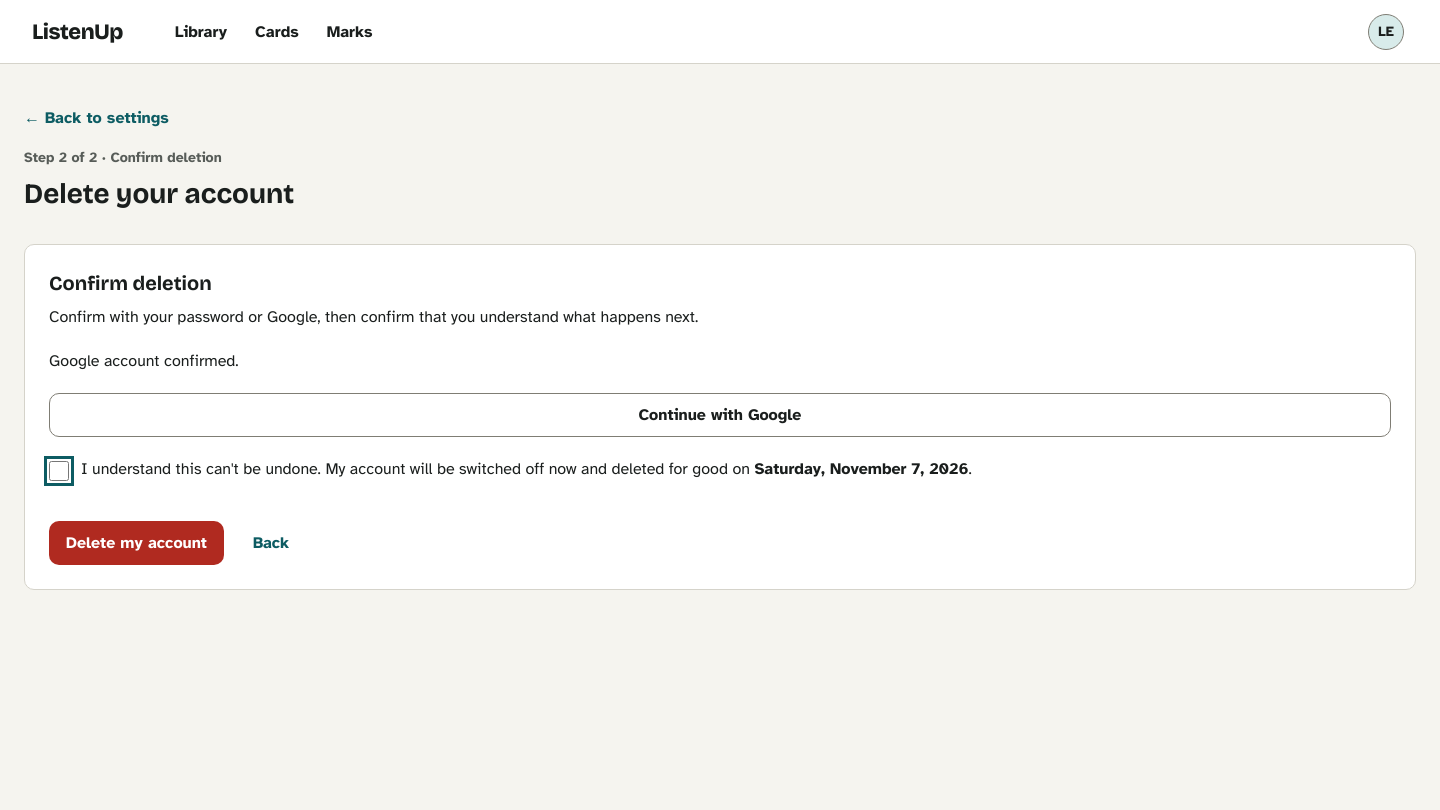
Scenario: an expired Google deletion proof offers Google confirmation again
Check: the text "Google account confirmed." is shown, box [49, 351, 239, 371]
Click the checkbox.
click(59, 471)  # box [49, 461, 69, 481]
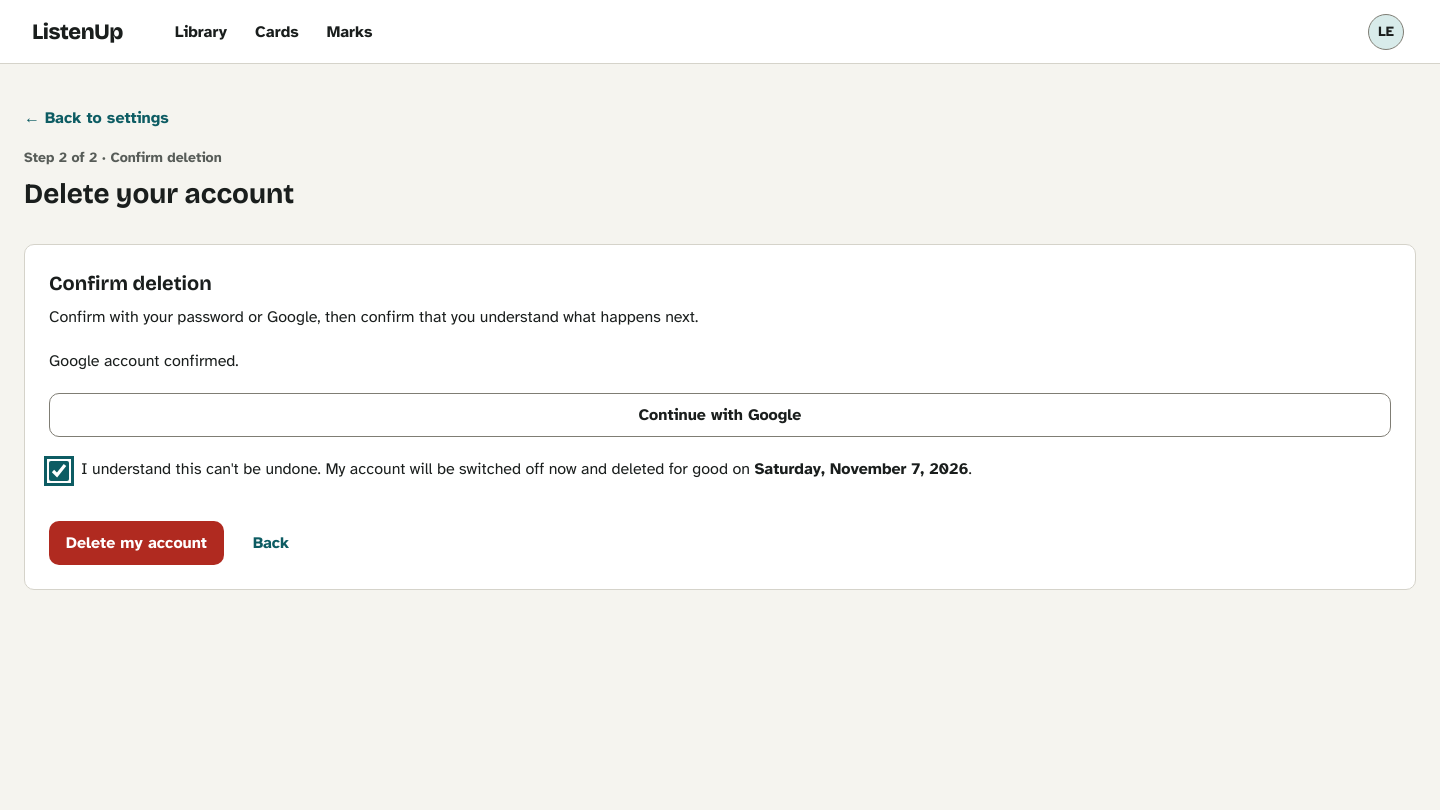
Click the button "Delete my account".
click(136, 543)  # box [49, 521, 224, 565]
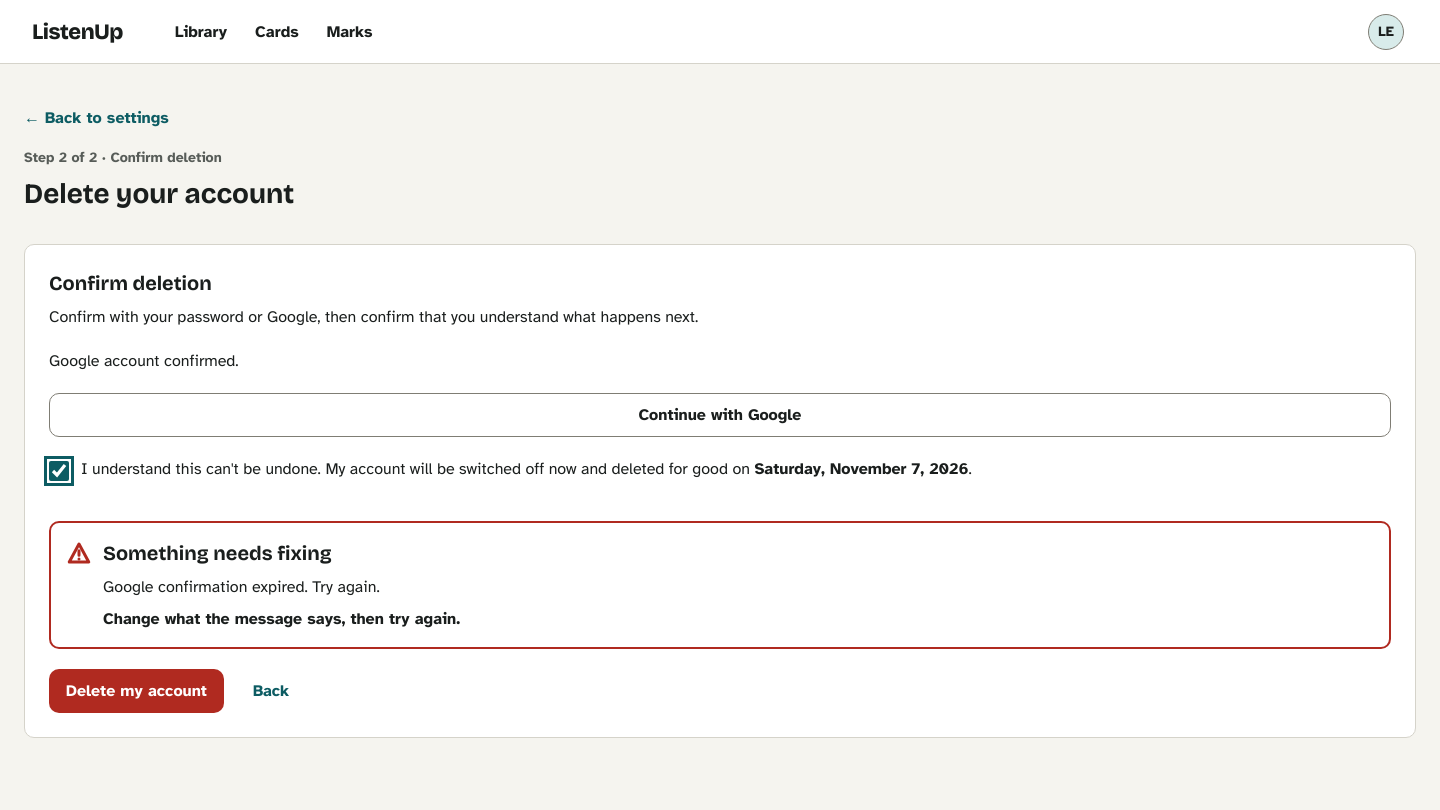
Check: the text "Google confirmation expired. Try again." is shown, box [103, 575, 380, 599]
